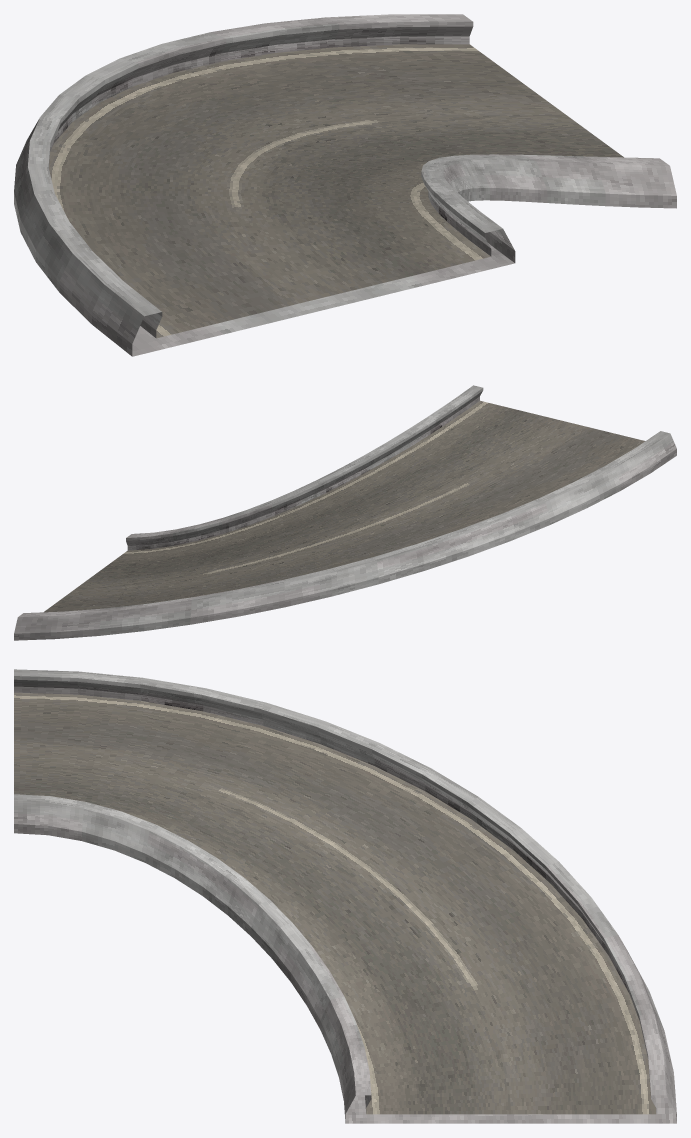
File: turn-right2x2.glb
3 renders of one model, top to bottom at view 1: azimuth 30°, elevation 25°; view 2: azimuth 150°, elevation 25°; view 3: azimuth 270°, elevation 25°, orthographic. The views are drawn at different scales.
Visible parts, largest first — view 1: road-Turn-Flat-BiSlopeDown-Down2-Right-Size2; view 2: road-Turn-Flat-BiSlopeDown-Down2-Right-Size2; view 3: road-Turn-Flat-BiSlopeDown-Down2-Right-Size2.
Boxes of the visible parts, x1,y1,x2,y2 form: road-Turn-Flat-BiSlopeDown-Down2-Right-Size2: [14, 14, 676, 356]; road-Turn-Flat-BiSlopeDown-Down2-Right-Size2: [14, 385, 676, 640]; road-Turn-Flat-BiSlopeDown-Down2-Right-Size2: [14, 669, 676, 1123].
Size of the model in its own units: 2 by 0.5938 by 2.
2 materials, 2 textured.
